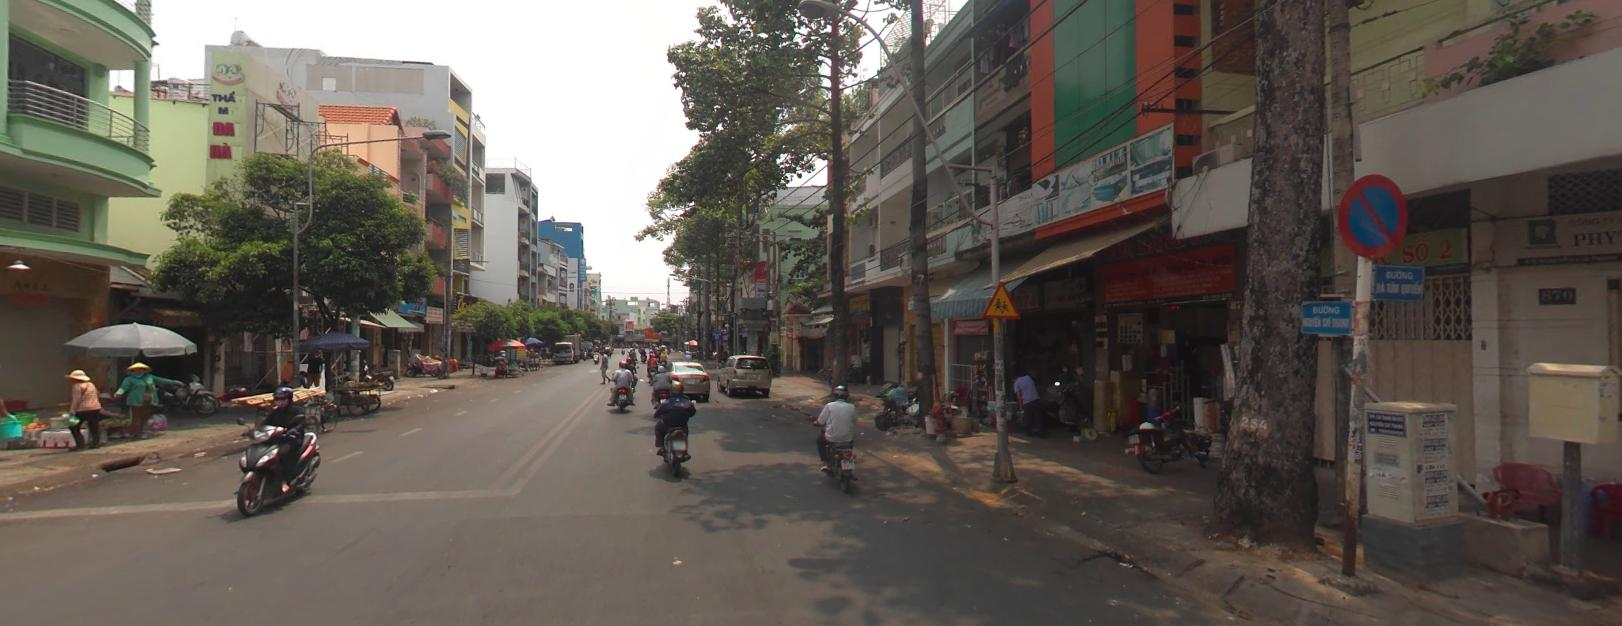Cam dung va do: (1339, 172, 1405, 258)
Nguy hiem: (981, 279, 1021, 318)
